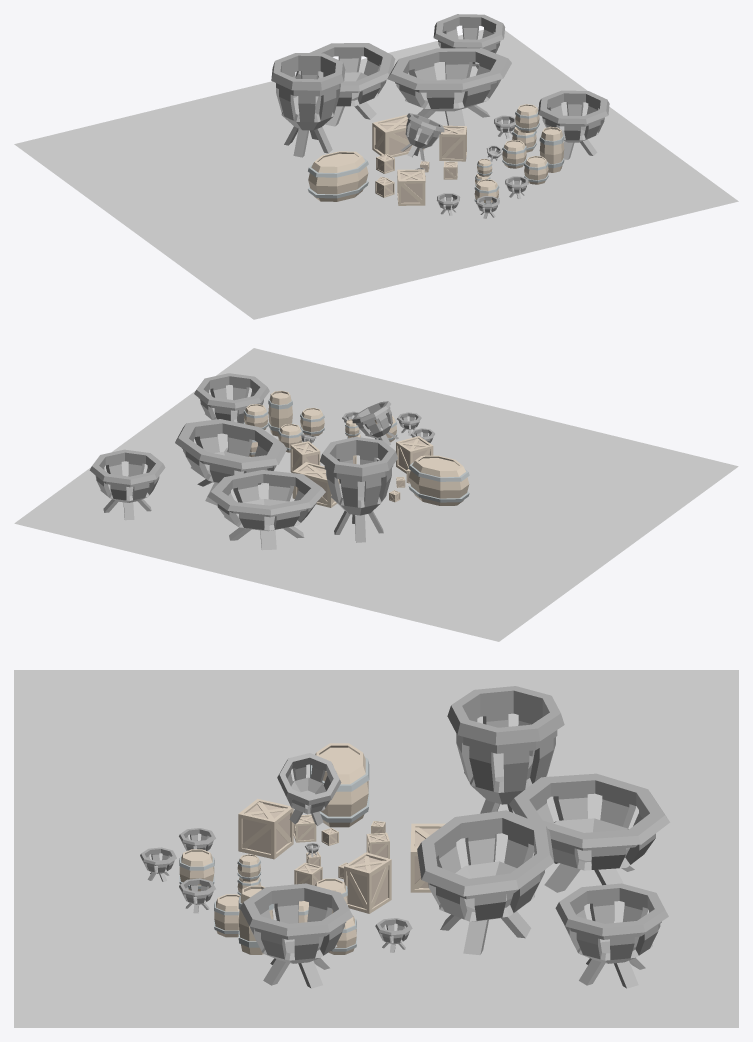
The model's file is scene_dungeon_fixed.glb.
The picture shows the model from 3 angles, top to bottom: view 1: azimuth 30°, elevation 25°; view 2: azimuth 150°, elevation 25°; view 3: azimuth 270°, elevation 25°; orthographic projection. The views are drawn at different scales.
Parts seen in each view (by area): view 1: Plane, object1.024, object1.025, object1.023, object1.029, object1.028, object1.030, object1.026, object1.018, object1.008, object1.007, object1.016 (+3 smaller); view 2: Plane, object1.023, object1.025, object1.024, object1.030, object1.028, object1.029, object1.018, object1.016, object1.008, object1.026, object1.007 (+3 smaller); view 3: Plane, object1.024, object1.023, object1.025, object1.030, object1.029, object1.028, object1.018, object1.008, object1.007, object1.013, object1.026 (+7 smaller).
Part boxes in pixels (x1=…): Plane: x1=14, y1=29, x2=738, y2=319; object1.024: x1=387, y1=48, x2=511, y2=125; object1.025: x1=271, y1=53, x2=345, y2=157; object1.023: x1=295, y1=43, x2=395, y2=126; object1.029: x1=538, y1=90, x2=609, y2=159; object1.028: x1=308, y1=151, x2=368, y2=201; object1.030: x1=433, y1=14, x2=505, y2=68; object1.026: x1=372, y1=114, x2=424, y2=157; object1.018: x1=400, y1=113, x2=444, y2=160; object1.008: x1=397, y1=169, x2=425, y2=205; object1.007: x1=439, y1=125, x2=466, y2=161; object1.016: x1=539, y1=126, x2=564, y2=172; Plane: x1=14, y1=348, x2=738, y2=641; object1.023: x1=207, y1=470, x2=325, y2=550; object1.025: x1=319, y1=437, x2=397, y2=542; object1.024: x1=175, y1=419, x2=286, y2=505; object1.030: x1=89, y1=449, x2=165, y2=520; object1.028: x1=408, y1=455, x2=469, y2=505; object1.029: x1=194, y1=373, x2=269, y2=423; object1.018: x1=352, y1=401, x2=398, y2=445; object1.016: x1=268, y1=390, x2=292, y2=436; object1.008: x1=396, y1=436, x2=433, y2=473; object1.026: x1=292, y1=462, x2=339, y2=507; object1.007: x1=290, y1=441, x2=320, y2=472; Plane: x1=14, y1=670, x2=738, y2=1027; object1.024: x1=417, y1=810, x2=554, y2=955; object1.023: x1=509, y1=773, x2=670, y2=892; object1.025: x1=447, y1=686, x2=564, y2=813; object1.030: x1=555, y1=883, x2=668, y2=988; object1.029: x1=240, y1=883, x2=353, y2=988; object1.028: x1=310, y1=743, x2=369, y2=827; object1.018: x1=277, y1=753, x2=341, y2=825; object1.008: x1=238, y1=798, x2=293, y2=859; object1.007: x1=344, y1=852, x2=391, y2=913; object1.013: x1=179, y1=849, x2=214, y2=891; object1.026: x1=410, y1=823, x2=445, y2=892.
Bounding box in the file's own units: 162 × 25.85 × 139.
